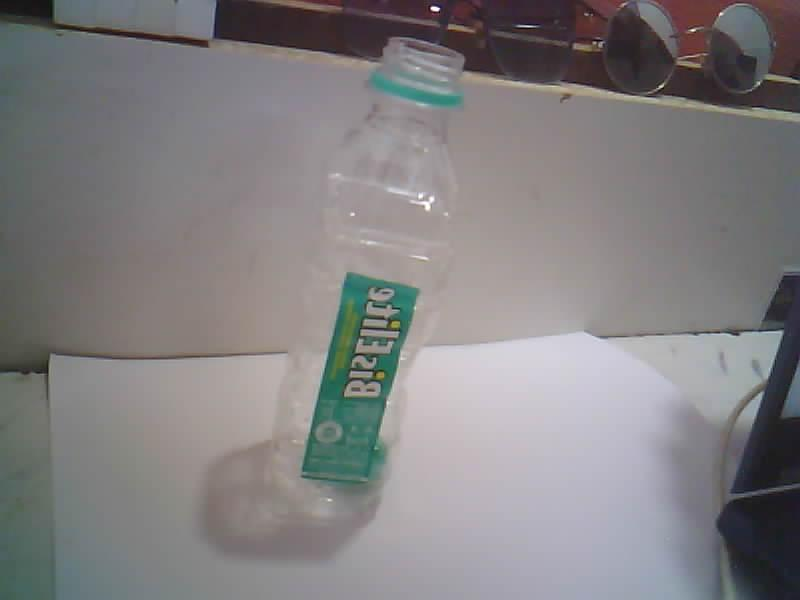non-biodegradable: (265, 37, 463, 526)
